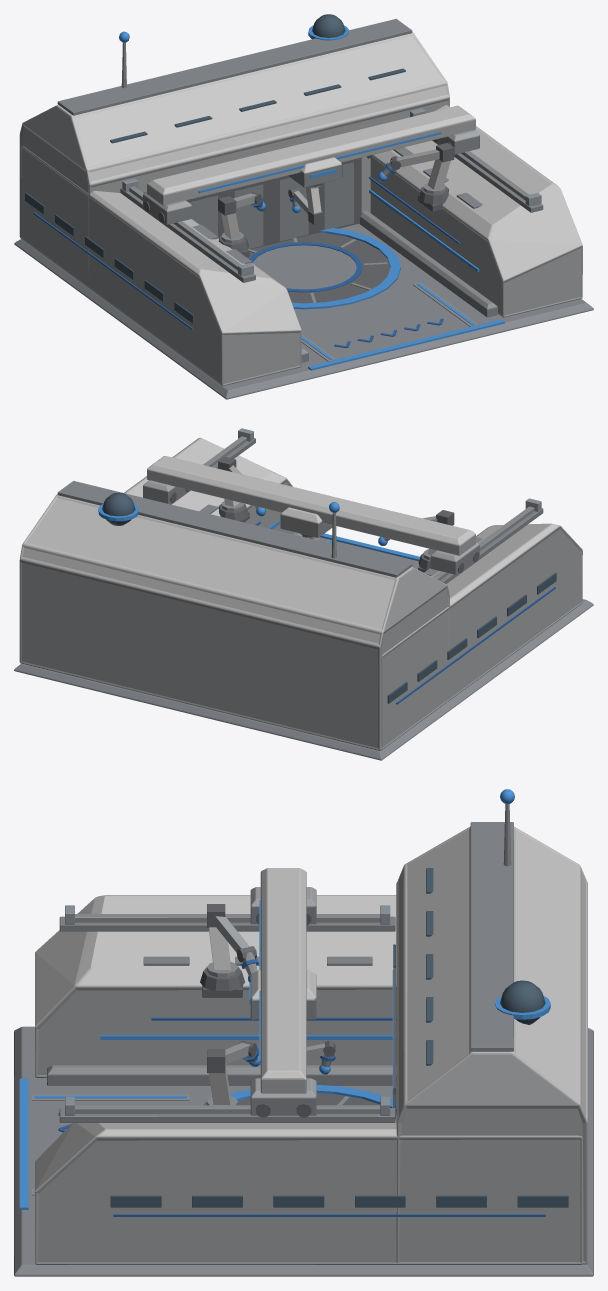
Rendered from lattice_vehicle_plant.glb.
The picture shows the model from 3 angles, top to bottom: view 1: azimuth 30°, elevation 25°; view 2: azimuth 150°, elevation 25°; view 3: azimuth 270°, elevation 25°; orthographic projection. The views are drawn at different scales.
Visible parts, largest first — view 1: Body; view 2: Body; view 3: Body.
Boxes of the visible parts, <box> form: Body: <box>14,14,593,399</box>; Body: <box>14,428,593,760</box>; Body: <box>14,789,593,1276</box>.
Bounding box in the file's own units: 22.8 × 12.8 × 22.8.
